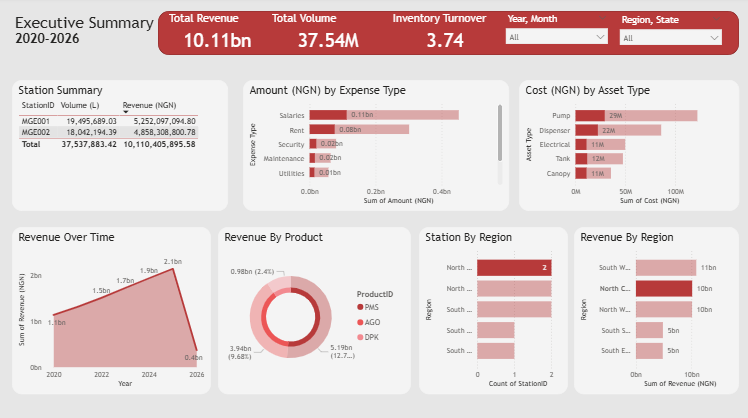

What the dashboard file says about the page in this screenshot:
{"tool":"powerbi","page":{"name":"Executive Summary","canvas":[1280,720],"ordinal":7},"visuals":[{"type":"shape","box":[275.5,23.5,976,73.9],"z":0},{"type":"lineChart","title":"Revenue Over Time","fields":{"Y":["Sum(Daily Sales.Revenue (NGN))"],"Category":["Daily Sales.Date.Variation.Date Hierarchy.Year"]},"box":[30.2,386.4,334.3,280.5],"z":1000},{"type":"donutChart","title":"Revenue By Product","fields":{"Y":["Sum(Daily Sales.Revenue (NGN))"],"Category":["Daily Sales.ProductID"]},"box":[376.3,386.4,324.2,280.5],"z":2000},{"type":"barChart","title":"Station By Region","fields":{"Category":["Stations.Region"],"Y":["CountNonNull(Stations.StationID)"]},"box":[713.9,386.4,250.3,280.5],"z":3000},{"type":"barChart","title":"Revenue By Region","fields":{"Category":["Stations.Region"],"Y":["Sum(Daily Sales.Revenue (NGN))"]},"box":[974.3,386.4,277.2,280.5],"z":4000},{"type":"tableEx","title":"Station Summary","fields":{"Values":["Daily Sales.StationID","Sum(Daily Sales.Volume Literes)","Sum(Daily Sales.Revenue (NGN))"]},"box":[30.2,139.4,362.8,220.1],"z":5000},{"type":"clusteredBarChart","title":"Amount (NGN) by Expense Type","fields":{"Y":["Sum(Monthly Expenses.Amount (NGN))"],"Category":["Monthly Expenses.Expense Type"]},"box":[418.3,139.4,446.8,220.1],"z":6000},{"type":"clusteredBarChart","title":"Cost (NGN) by Asset Type","fields":{"Category":["Maintenance.Asset Type"],"Y":["Sum(Maintenance.Cost (NGN))"]},"box":[881.9,139.4,369.6,220.1],"z":7000},{"type":"card","title":"Total Revenue","fields":{"Values":["_Measures.Total Revenue"]},"box":[288.9,23.5,173,73.9],"z":8000},{"type":"card","title":"Total Volume","fields":{"Values":["_Measures.Total Volume"]},"box":[461.9,23.5,198.2,73.9],"z":9000},{"type":"card","title":"Inventory Turnover","fields":{"Values":["_Measures.Inventory Turnover"]},"box":[665.2,23.5,184.8,73.9],"z":10000},{"type":"textbox","box":[30.2,21.8,255.3,73.9],"z":10001},{"type":"slicer","fields":{"Values":["Daily Sales.Date.Variation.Date Hierarchy.Year","Daily Sales.Date.Variation.Date Hierarchy.Month"]},"box":[850,21.8,191.5,73.9],"z":10002},{"type":"slicer","fields":{"Values":["Stations.Region","Stations.State"]},"box":[1041.5,23.5,191.5,72.2],"z":10003}]}

Visuals, with their boxes in screenshot pixels (x1, y1, x2, y2), scaled from the page's 1280x720 canvas onto the 748x418 screenshot:
shape: left=161, top=14, right=731, bottom=57
"Revenue Over Time" lineChart: left=18, top=224, right=213, bottom=387
"Revenue By Product" donutChart: left=220, top=224, right=409, bottom=387
"Station By Region" barChart: left=417, top=224, right=563, bottom=387
"Revenue By Region" barChart: left=569, top=224, right=731, bottom=387
"Station Summary" tableEx: left=18, top=81, right=230, bottom=209
"Amount (NGN) by Expense Type" clusteredBarChart: left=244, top=81, right=506, bottom=209
"Cost (NGN) by Asset Type" clusteredBarChart: left=515, top=81, right=731, bottom=209
"Total Revenue" card: left=169, top=14, right=270, bottom=57
"Total Volume" card: left=270, top=14, right=386, bottom=57
"Inventory Turnover" card: left=389, top=14, right=497, bottom=57
textbox: left=18, top=13, right=167, bottom=56
slicer - Daily Sales.Date.Variation.Date Hierarchy.Year x Daily Sales.Date.Variation.Date Hierarchy.Month: left=497, top=13, right=609, bottom=56
slicer - Stations.Region x Stations.State: left=609, top=14, right=721, bottom=56
